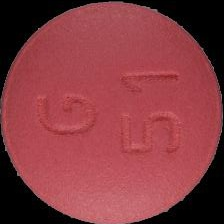0615-8021: (0, 0, 224, 224)
